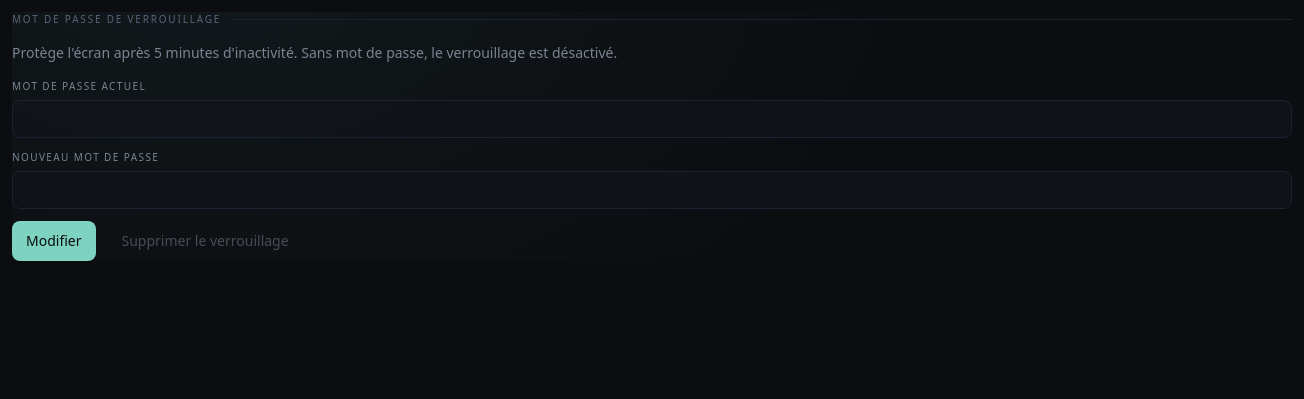
it: SettingsLock › rejects a change submit with no current password client-side
Type "desk-lock-123" into the password field labelled "Nouveau mot de passe".
click(652, 190); type("desk-lock-123")  # box [12, 171, 1292, 209]
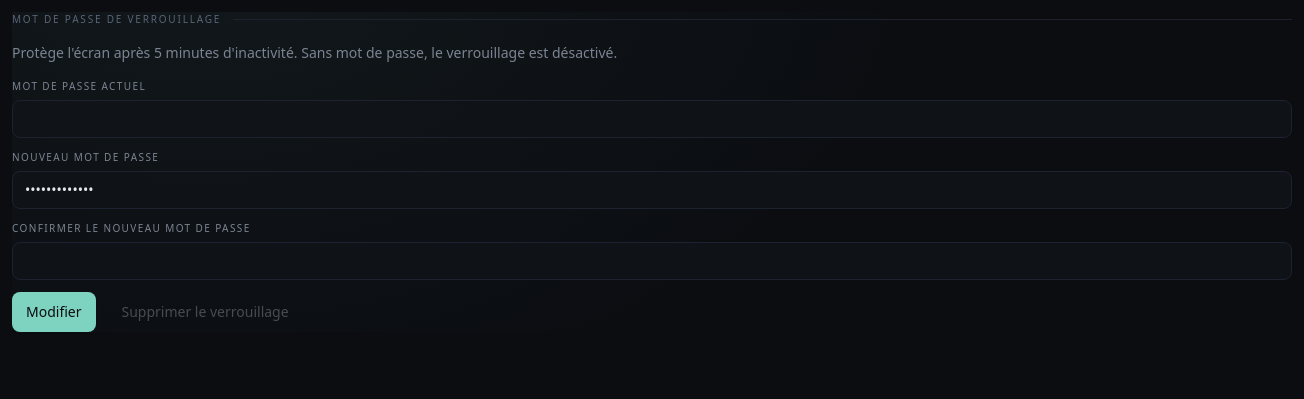
Type "desk-lock-123" into the password field labelled "Confirmer le nouveau mot de passe".
click(652, 261); type("desk-lock-123")  # box [12, 242, 1292, 280]
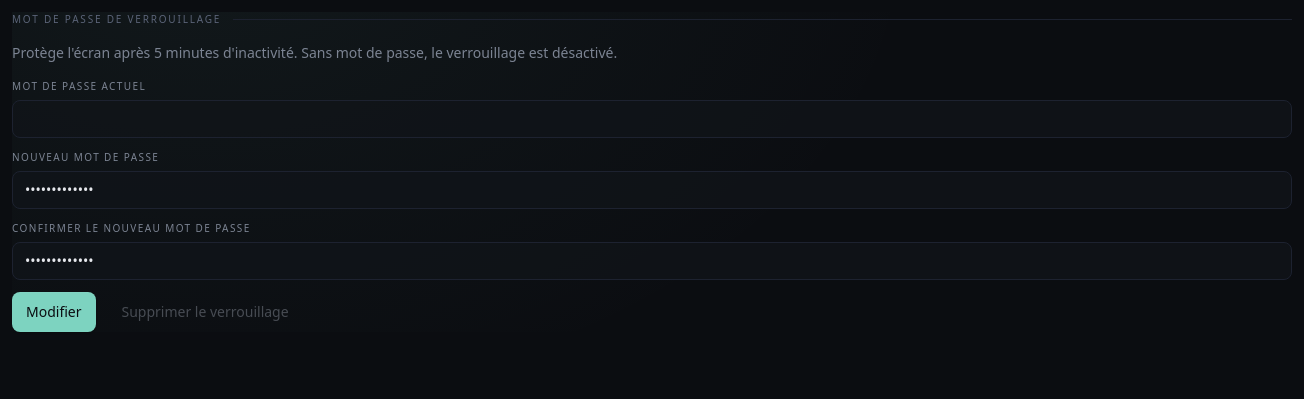
Click the button "Modifier".
click(54, 312)  # box [12, 292, 96, 332]
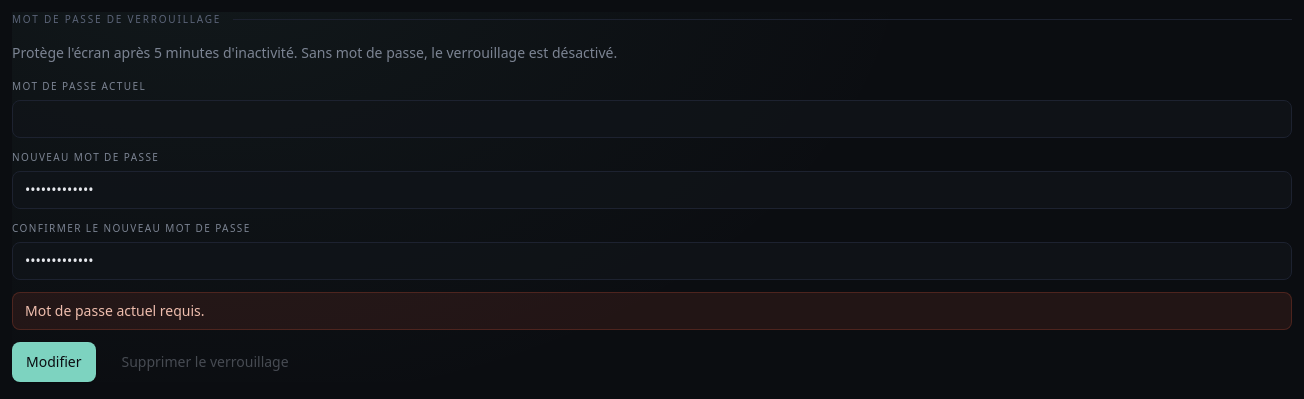
Check: the text "Mot de passe actuel requis." is shown, box [12, 292, 1292, 330]
